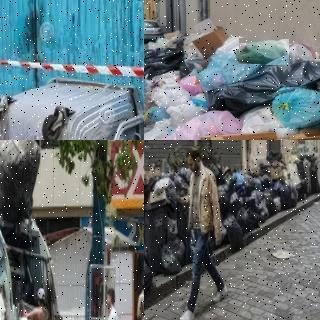Garbage: (196, 46, 269, 87), (268, 79, 320, 136), (157, 109, 242, 140), (241, 105, 291, 132), (239, 39, 289, 65), (144, 48, 185, 76), (157, 241, 180, 276), (236, 202, 260, 232), (272, 177, 292, 211)
